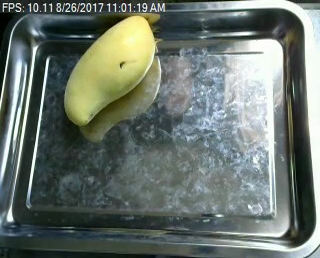Mango: (64, 13, 154, 130)
